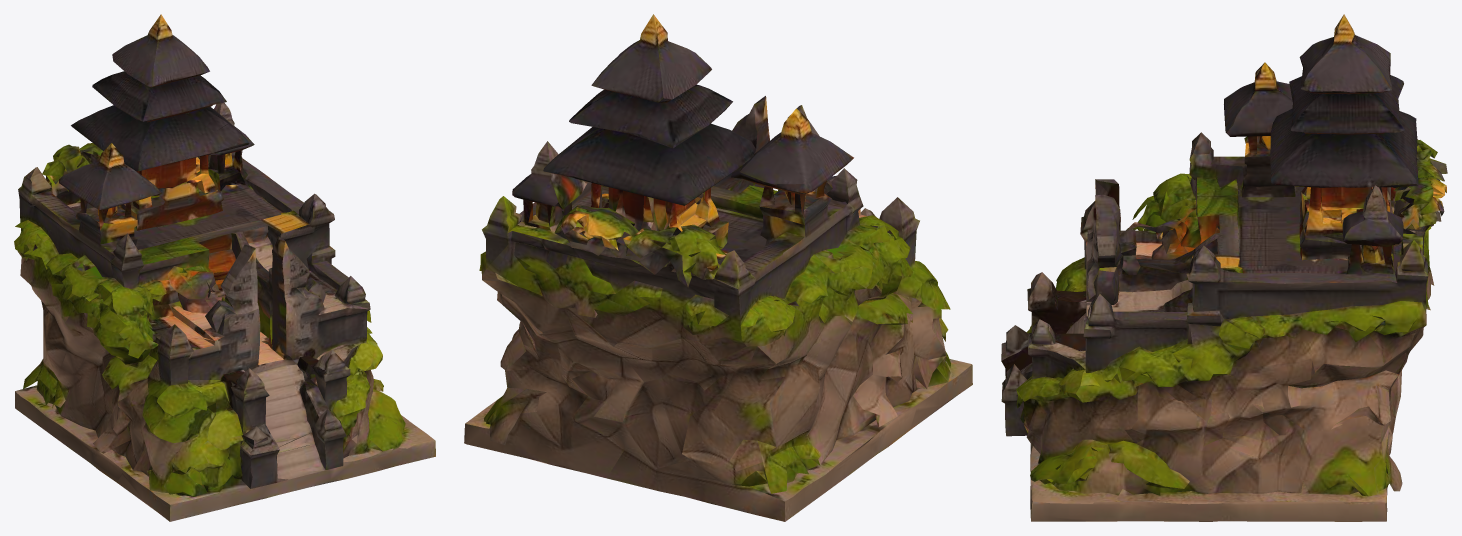
The model's file is uluwatu-temple.glb.
3 renders of one model, left to right at view 1: azimuth 30°, elevation 25°; view 2: azimuth 150°, elevation 25°; view 3: azimuth 270°, elevation 25°, orthographic. The views are drawn at different scales.
Visible parts, largest first — view 1: logan-textured.obj; view 2: logan-textured.obj; view 3: logan-textured.obj.
Boxes of the visible parts, x1=… form: logan-textured.obj: x1=14, y1=14, x2=435, y2=521; logan-textured.obj: x1=464, y1=14, x2=972, y2=521; logan-textured.obj: x1=1001, y1=14, x2=1447, y2=521.
Bounding box in the file's own units: 0.7675 × 1 × 0.9387.
Materials: 1 (1 with a texture image).
